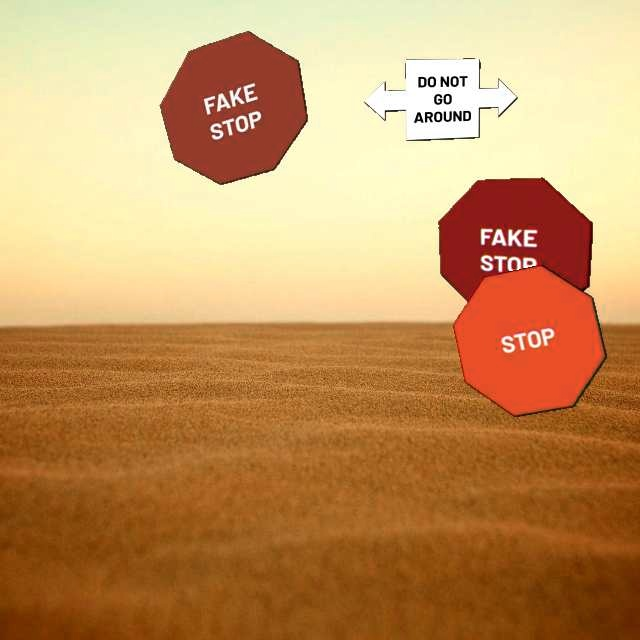DO_NOT_GO_AROUND: (363, 58, 518, 141)
FAKE_STOP: (159, 30, 308, 185), (438, 177, 593, 322)
STOP: (452, 264, 607, 417)
